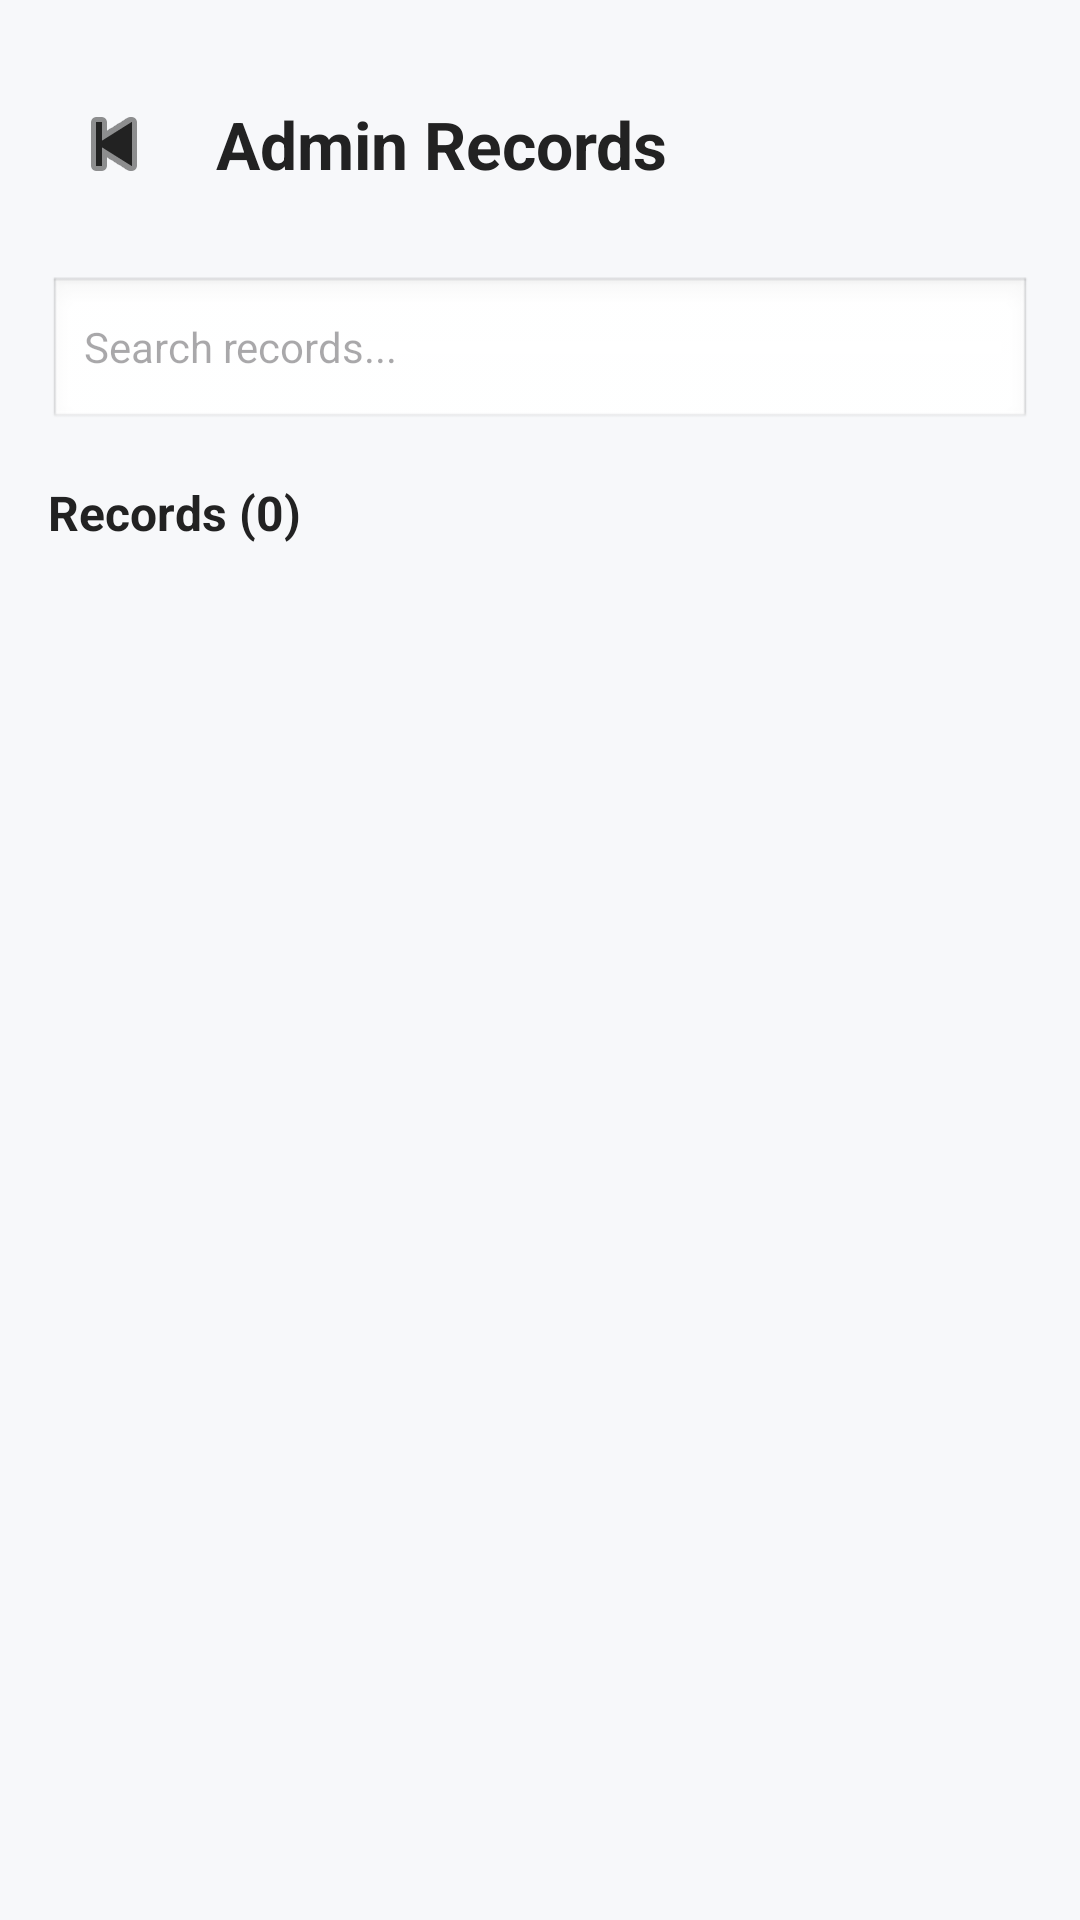

Screen size 1080 x 1920. Icon name, then its box in pixels as (x1, y1, x2, y2):
Back: (91, 117, 137, 171)
